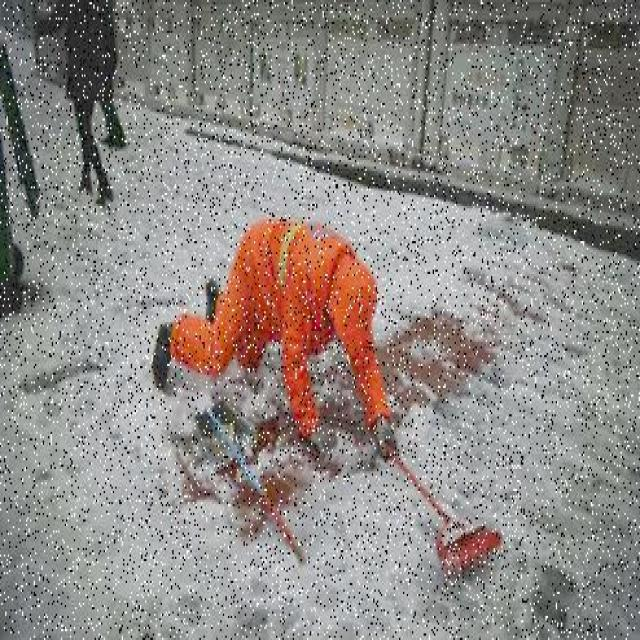fall: (152, 213, 398, 458)
